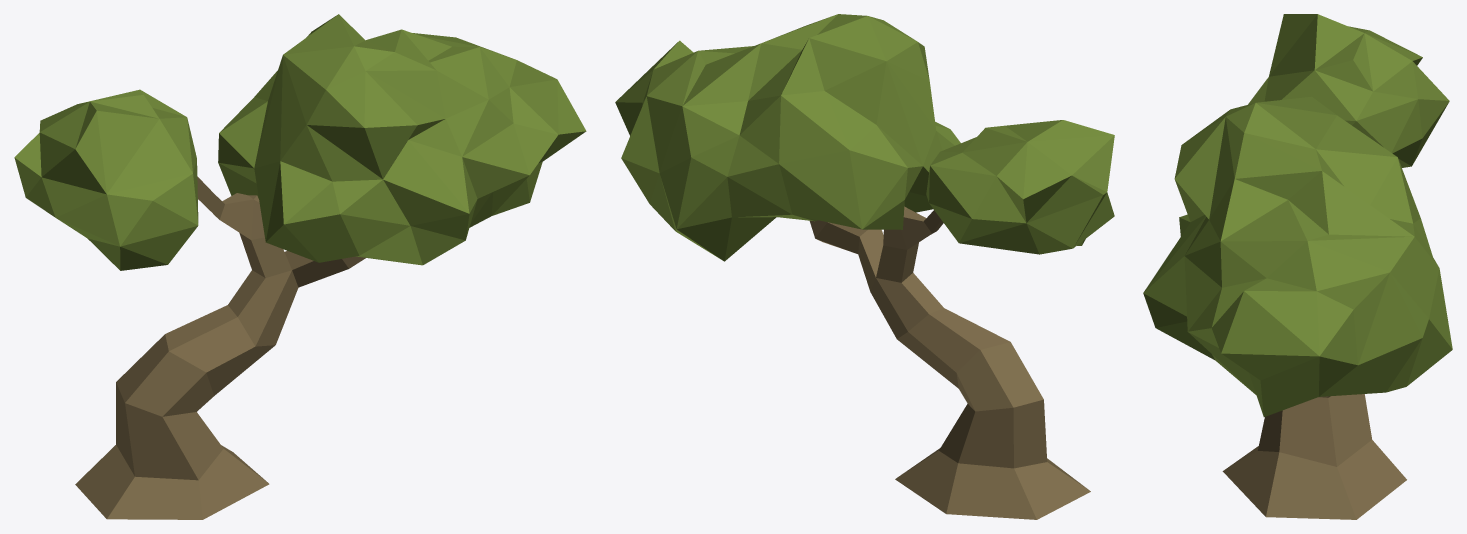
Rendered from Tree_4.fbx.
The picture shows the model from 3 angles, left to right: view 1: azimuth 30°, elevation 25°; view 2: azimuth 150°, elevation 25°; view 3: azimuth 270°, elevation 25°; orthographic projection. The views are drawn at different scales.
Visible parts, largest first — view 1: Tree_4; view 2: Tree_4; view 3: Tree_4.
Part boxes in pixels (x1,y1,x2,y2): Tree_4: (14, 14, 586, 519); Tree_4: (615, 14, 1114, 519); Tree_4: (1143, 14, 1452, 519).
Bounding box in the file's own units: 432 × 335 × 206.
